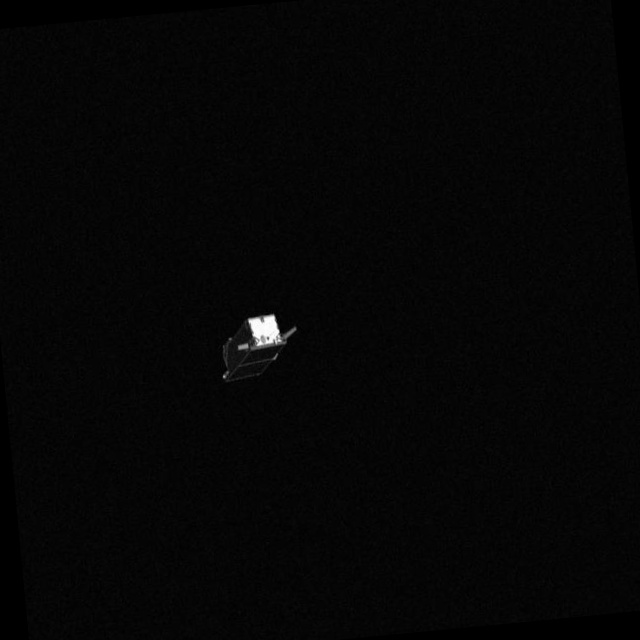medium_debris: (209, 302, 305, 384)
